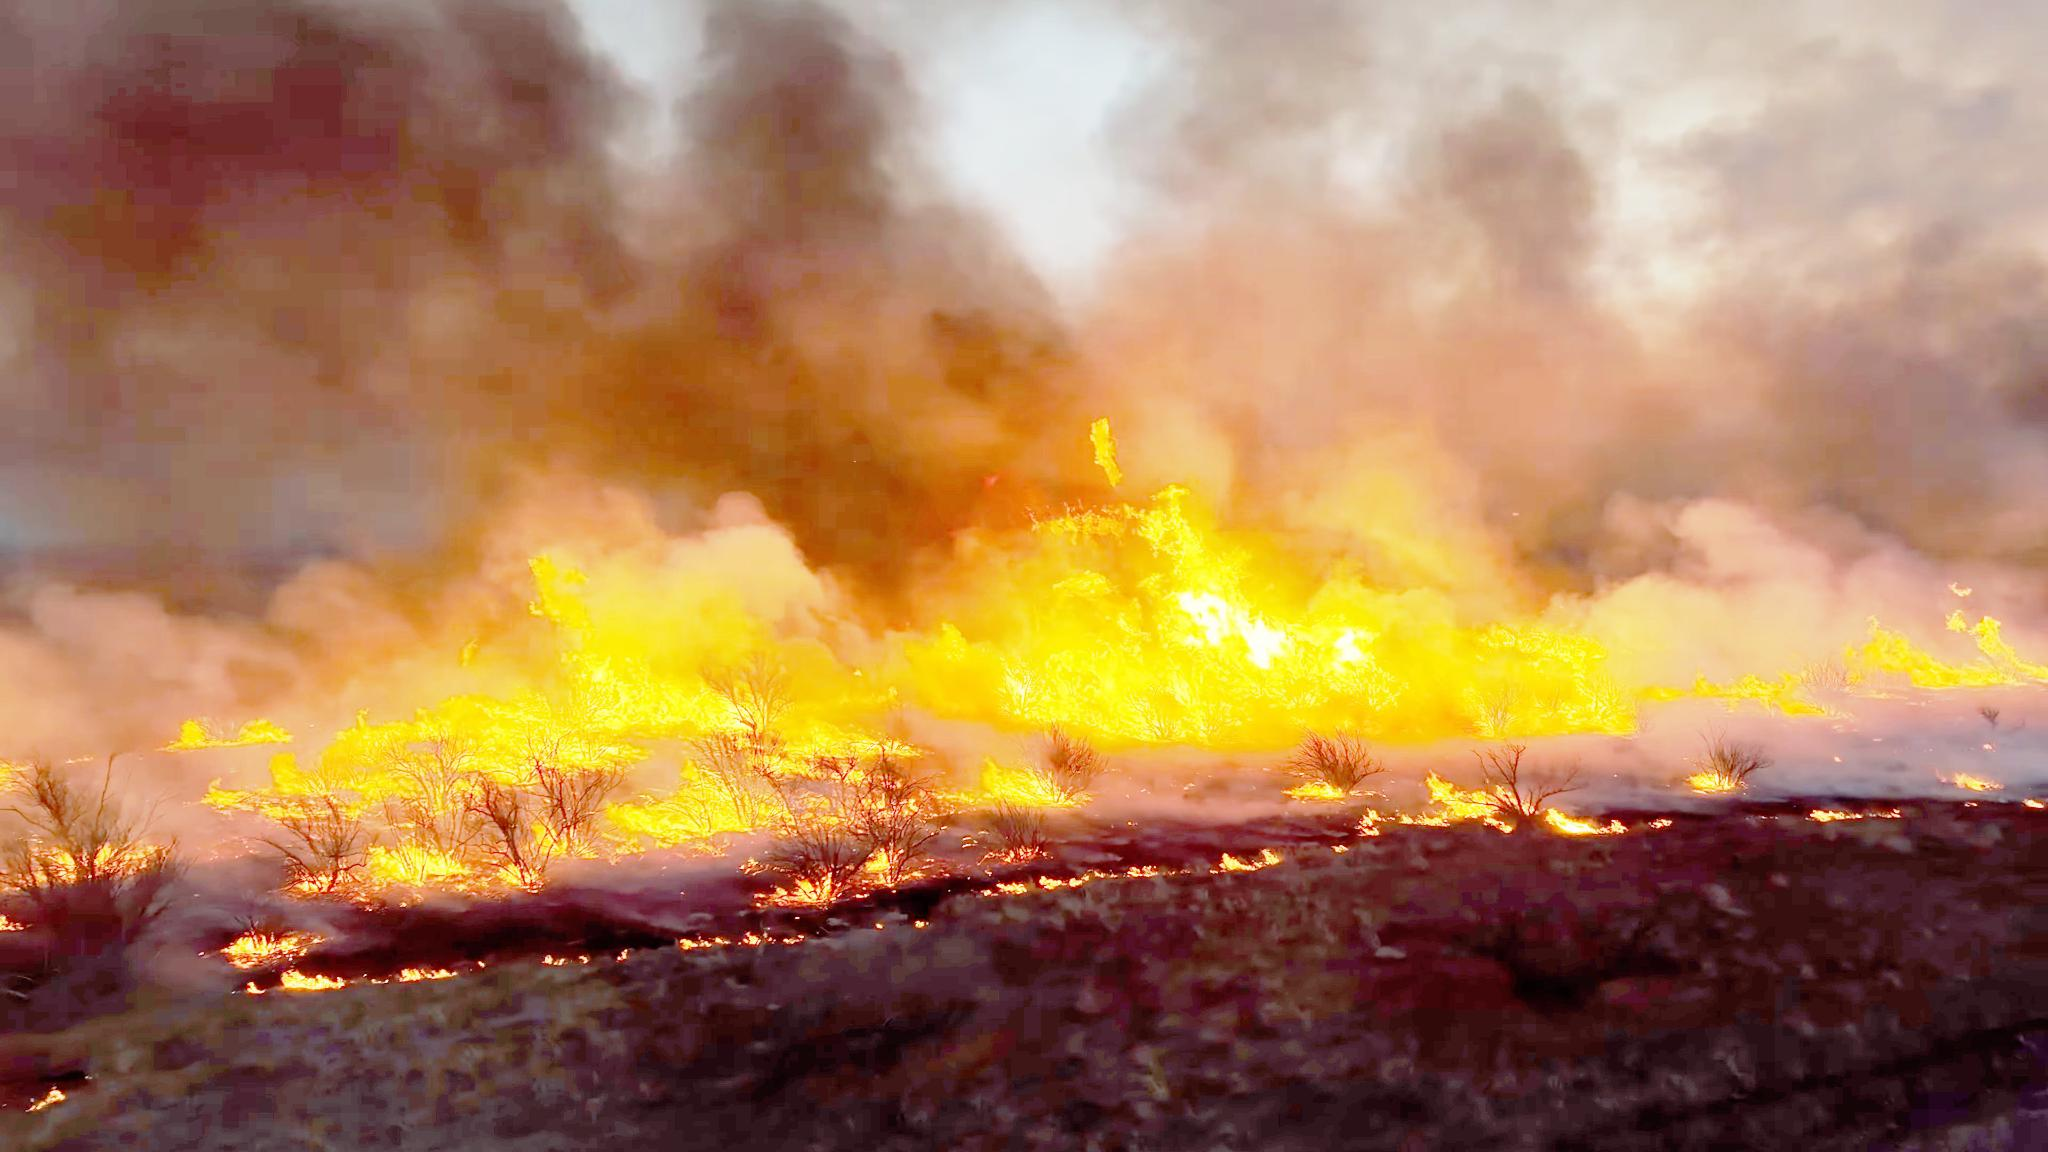fire: (1038, 467, 1385, 767), (536, 619, 785, 772)
smoke: (0, 0, 965, 584), (1401, 110, 2047, 535)
